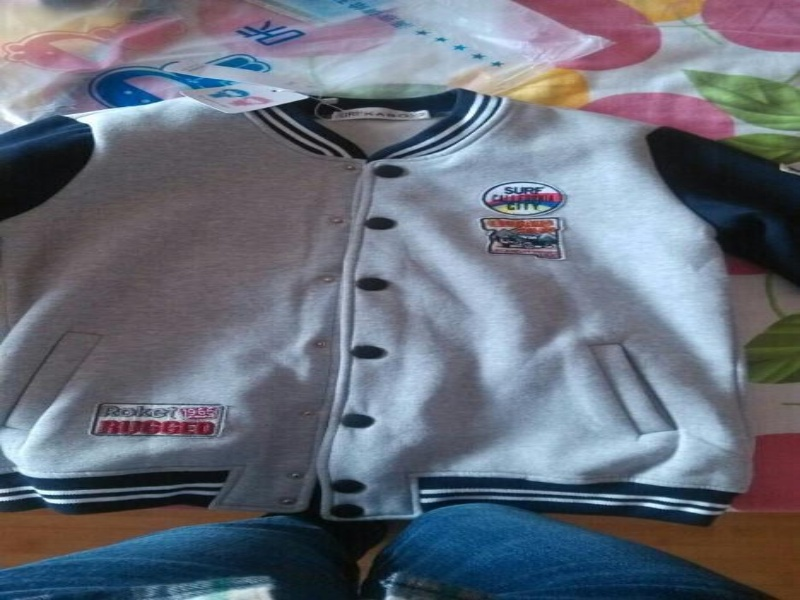long_sleeved_shirt: (5, 85, 797, 533)
trousers: (3, 494, 797, 599)
